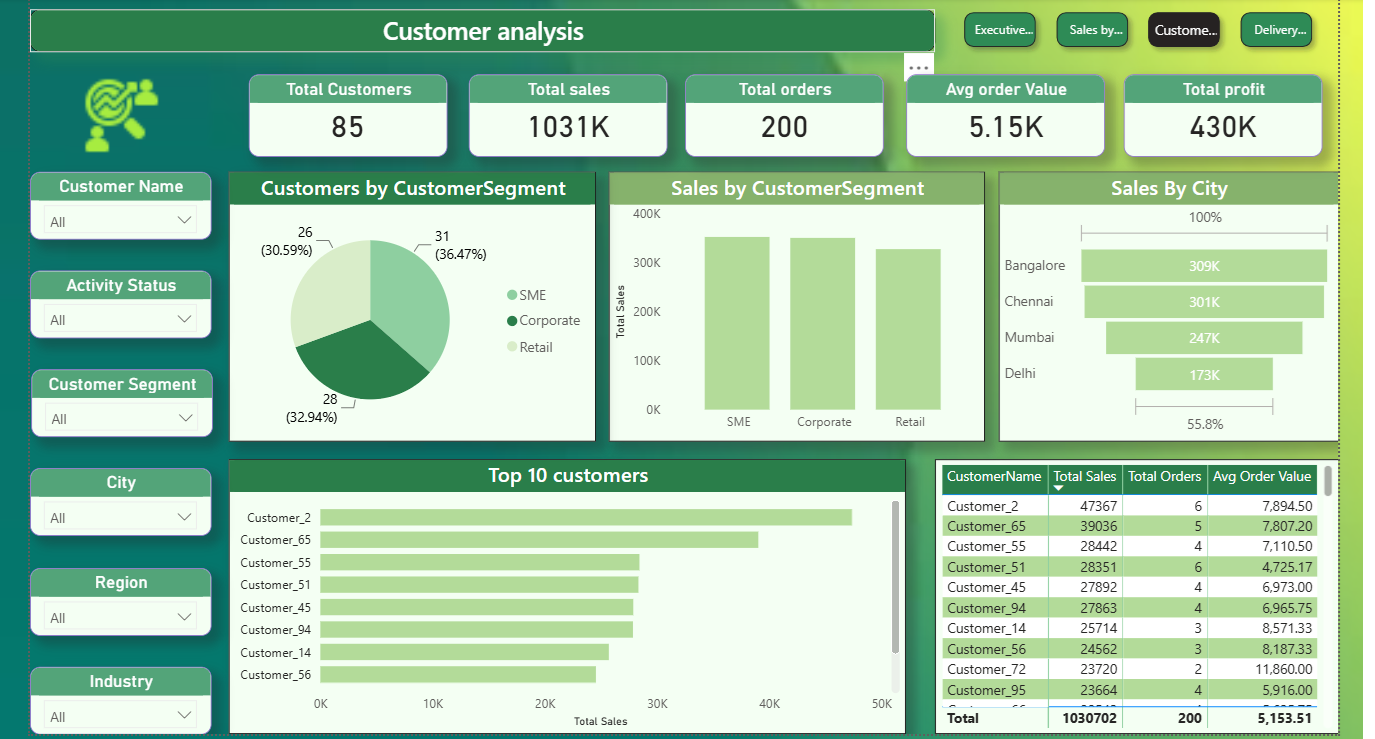

This screenshot's page, from the dashboard's own definition file:
{"tool":"powerbi","page":{"name":"Customer Analysis","canvas":[1280,720],"ordinal":2},"visuals":[{"type":"tableEx","fields":{"Values":["Customers.CustomerName","Measures Table.Total Sales","Measures Table.Total Orders","Measures Table.Avg Order Value"]},"box":[885.3,451.2,395,269],"z":0},{"type":"columnChart","title":"Sales by CustomerSegment","fields":{"Category":["Customers.CustomerSegment"],"Y":["Measures Table.Total Sales"]},"box":[566.2,170,368.1,264.1],"z":1000},{"type":"funnel","title":"Sales By City","fields":{"Category":["Customers.City","Customers.Country"],"Y":["Measures Table.Total Sales"]},"box":[947.7,170,332.6,264.1],"z":2000},{"type":"clusteredBarChart","title":"Top 10 customers","fields":{"Category":["Customers.CustomerName"],"Y":["Measures Table.Total Sales"]},"box":[194.4,451.2,662.8,269],"z":3000},{"type":"pieChart","title":"Customers by CustomerSegment","fields":{"Category":["Customers.CustomerSegment"],"Y":["Measures Table.Total Customers"]},"box":[194.4,170,359.5,264.1],"z":4000},{"type":"textbox","title":"Customer analysis","box":[0,11,885.3,41.6],"z":5000},{"type":"slicer","title":"Customer Name","fields":{"Values":["Customers.CustomerName"]},"box":[0,170,177.3,66],"z":6000},{"type":"slicer","title":"Region","fields":{"Values":["Customers.Region"]},"box":[0,557.2,177.3,66],"z":7000},{"type":"slicer","title":"Industry","fields":{"Values":["Customers.Industry"]},"box":[0,654,177.3,66],"z":8000},{"type":"slicer","title":"Customer Segment","fields":{"Values":["Customers.CustomerSegment"]},"box":[1.2,363.6,177.3,66],"z":9000},{"type":"slicer","title":"City","fields":{"Values":["Customers.City"]},"box":[0,460.4,177.3,66],"z":10000},{"type":"slicer","title":"Activity Status","fields":{"Values":["Customers.Status"]},"box":[0,266.8,177.3,66],"z":11000},{"type":"card","title":"Total Customers","fields":{"Values":["Measures Table.Total Customers"]},"box":[214,74.6,194.4,80.7],"z":12000},{"type":"card","title":"Total sales","fields":{"Values":["Measures Table.Total Sales"]},"box":[429.2,74.6,194.4,80.7],"z":13000},{"type":"card","title":"Total orders","fields":{"Values":["Measures Table.Total Orders"]},"box":[640.8,74.6,194.4,80.7],"z":14000},{"type":"card","title":"Avg order Value","fields":{"Values":["Measures Table.Avg Order Value"]},"box":[857.2,74.6,194.4,80.7],"z":15000},{"type":"card","title":"Total profit","fields":{"Values":["Measures Table.Total Profit"]},"box":[1070,74.6,194.4,80.7],"z":16000},{"type":"image","box":[26.9,74.6,126,80.7],"z":17000},{"type":"pageNavigator","box":[904.9,4.9,359.5,52.6],"z":18000}]}

Visuals, with their boxes on the page's 1280x720 design canvas (x1, y1, x2, y2). These are canvas units, not pixel positions in the 1375x739 screenshot, which may show the page scaled, cropped or inside an application window:
tableEx - Customers.CustomerName x Measures Table.Total Sales: x1=885, y1=451, x2=1280, y2=720
"Sales by CustomerSegment" columnChart: x1=566, y1=170, x2=934, y2=434
"Sales By City" funnel: x1=948, y1=170, x2=1280, y2=434
"Top 10 customers" clusteredBarChart: x1=194, y1=451, x2=857, y2=720
"Customers by CustomerSegment" pieChart: x1=194, y1=170, x2=554, y2=434
"Customer analysis" textbox: x1=0, y1=11, x2=885, y2=53
"Customer Name" slicer: x1=0, y1=170, x2=177, y2=236
"Region" slicer: x1=0, y1=557, x2=177, y2=623
"Industry" slicer: x1=0, y1=654, x2=177, y2=720
"Customer Segment" slicer: x1=1, y1=364, x2=178, y2=430
"City" slicer: x1=0, y1=460, x2=177, y2=526
"Activity Status" slicer: x1=0, y1=267, x2=177, y2=333
"Total Customers" card: x1=214, y1=75, x2=408, y2=155
"Total sales" card: x1=429, y1=75, x2=624, y2=155
"Total orders" card: x1=641, y1=75, x2=835, y2=155
"Avg order Value" card: x1=857, y1=75, x2=1052, y2=155
"Total profit" card: x1=1070, y1=75, x2=1264, y2=155
image: x1=27, y1=75, x2=153, y2=155
pageNavigator: x1=905, y1=5, x2=1264, y2=58
